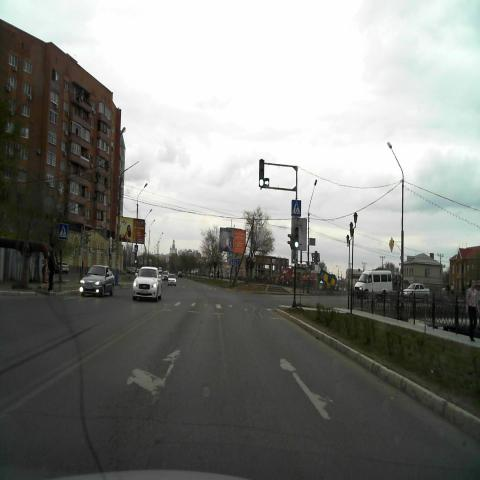5_19_1: (58, 222, 68, 241), (291, 200, 301, 216)
